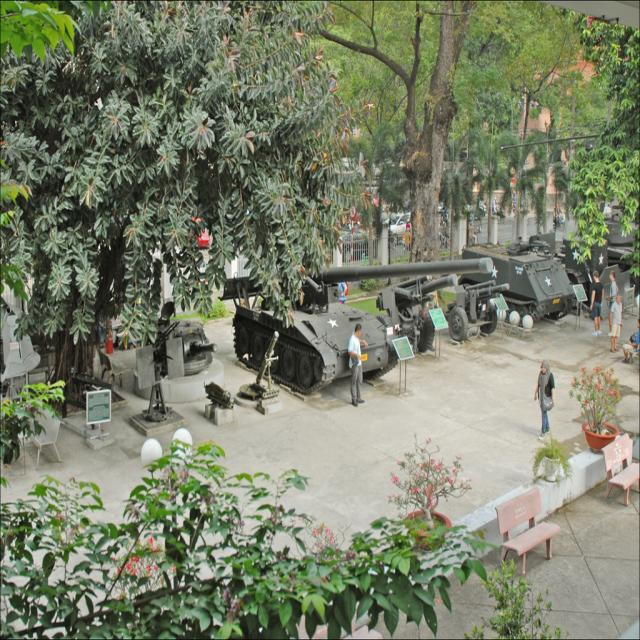tank: (214, 256, 496, 397), (459, 233, 579, 324)
